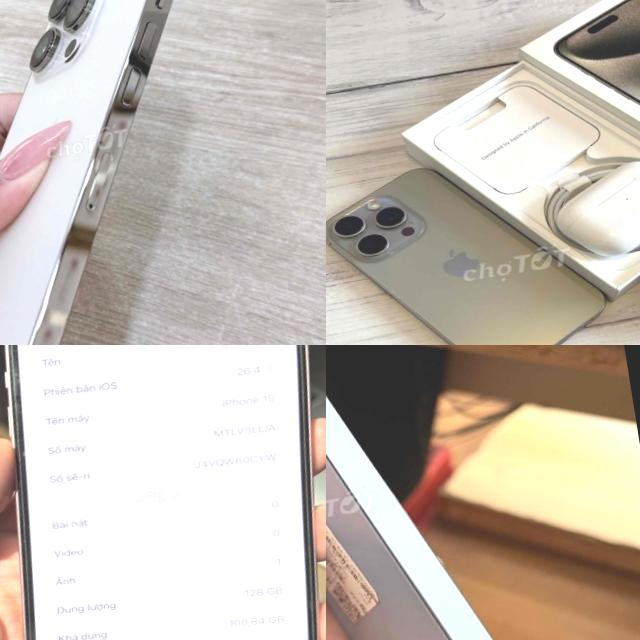gen_12_13: (326, 135, 627, 345)
gen_14: (0, 0, 268, 345), (326, 345, 543, 640)
gen_15: (0, 345, 326, 640)
